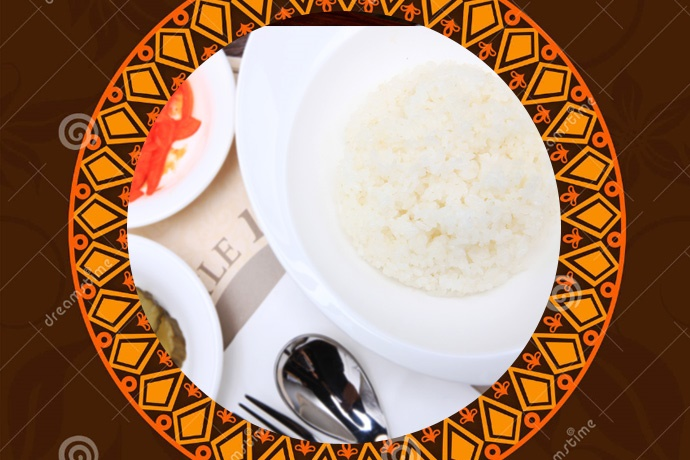plain rice: (344, 65, 536, 299)
